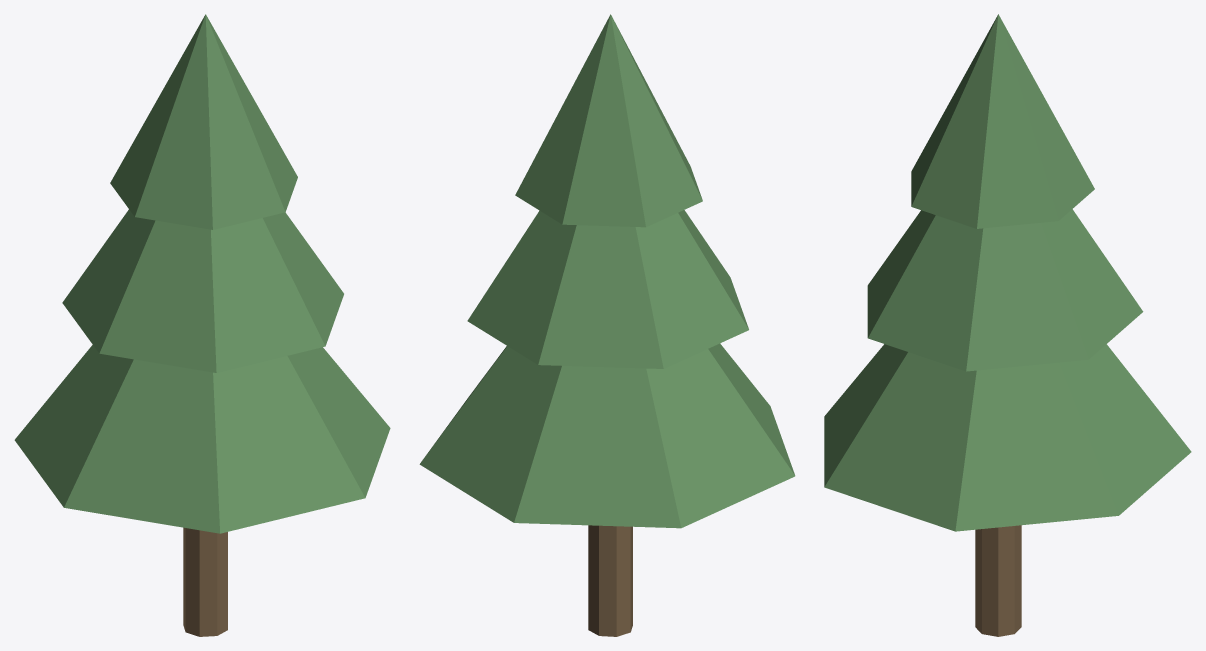
Rendered from Tree_Pine.fbx.
3 views of the same model, side by side, from view 1: azimuth 30°, elevation 25°; view 2: azimuth 150°, elevation 25°; view 3: azimuth 270°, elevation 25° (orthographic).
Visible parts, largest first — view 1: Tree_Pine; view 2: Tree_Pine; view 3: Tree_Pine.
Part boxes in pixels (x1,y1,x2,y2): Tree_Pine: (14, 14, 390, 636); Tree_Pine: (419, 14, 795, 636); Tree_Pine: (824, 14, 1191, 636).
Size of the model in its own units: 1.95 by 3.5 by 1.9.
